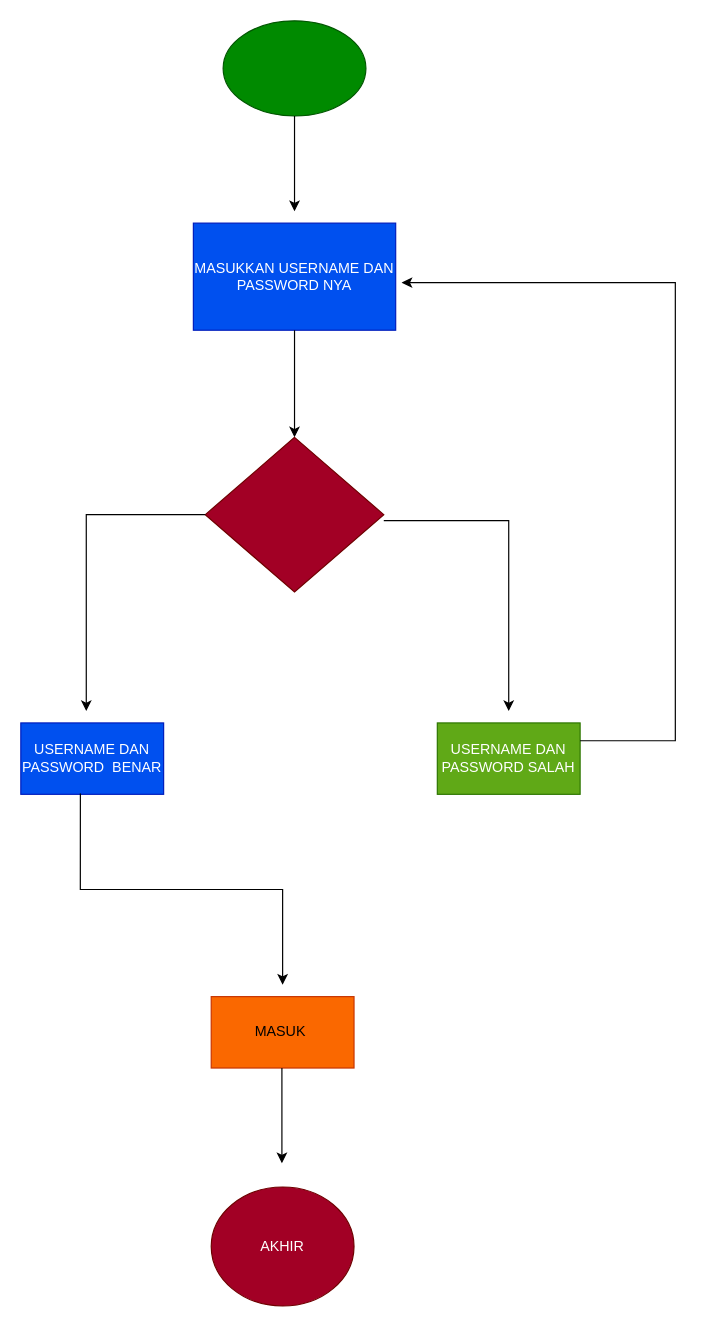
The diagram is 706 pixels wide and 1327 high, and some of its shapes have lost their labels. The box of each missing label's shape, as (x1, y1, x2, y2) in pixels:
IF: (204, 436, 384, 592)
MULAI: (222, 20, 366, 116)
